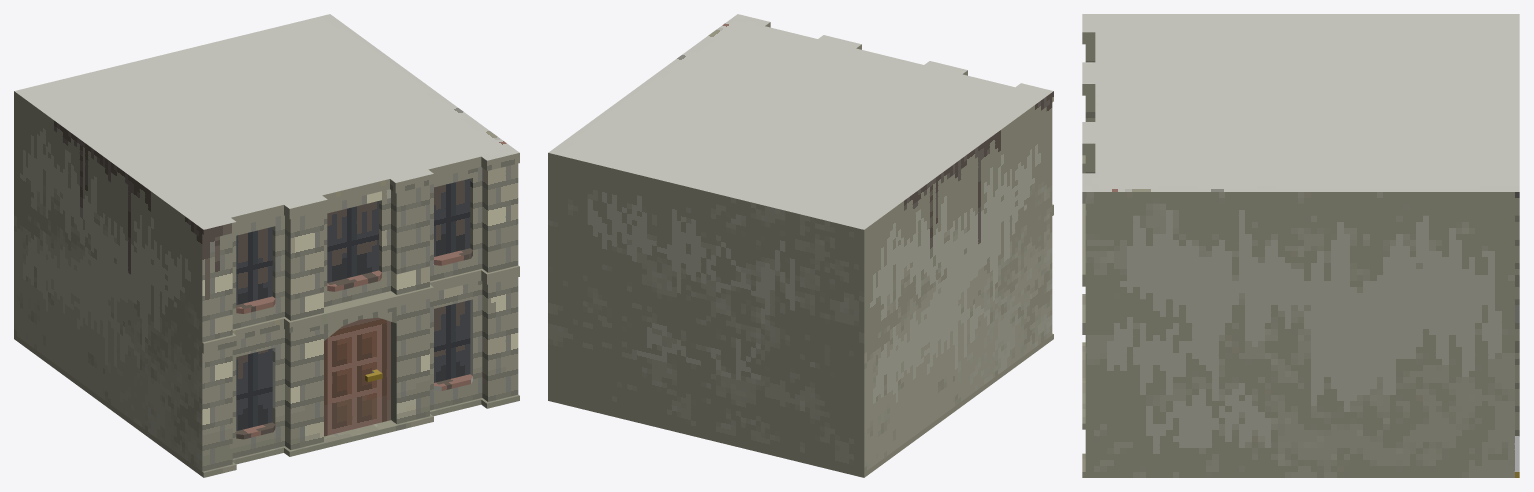
Rendered from Building.gltf.
3 views of the same model, side by side, from view 1: azimuth 30°, elevation 25°; view 2: azimuth 150°, elevation 25°; view 3: azimuth 270°, elevation 25° (orthographic). The views are drawn at different scales.
Visible parts, largest first — view 1: base; view 2: base; view 3: base.
Boxes of the visible parts, left/top/right/bottom form: base: left=14, top=14, right=519, bottom=477; base: left=548, top=14, right=1053, bottom=477; base: left=1082, top=14, right=1519, bottom=477.
Bounding box in the file's own units: 4 × 3 × 4.16.
Materials: 1 (1 with a texture image).
